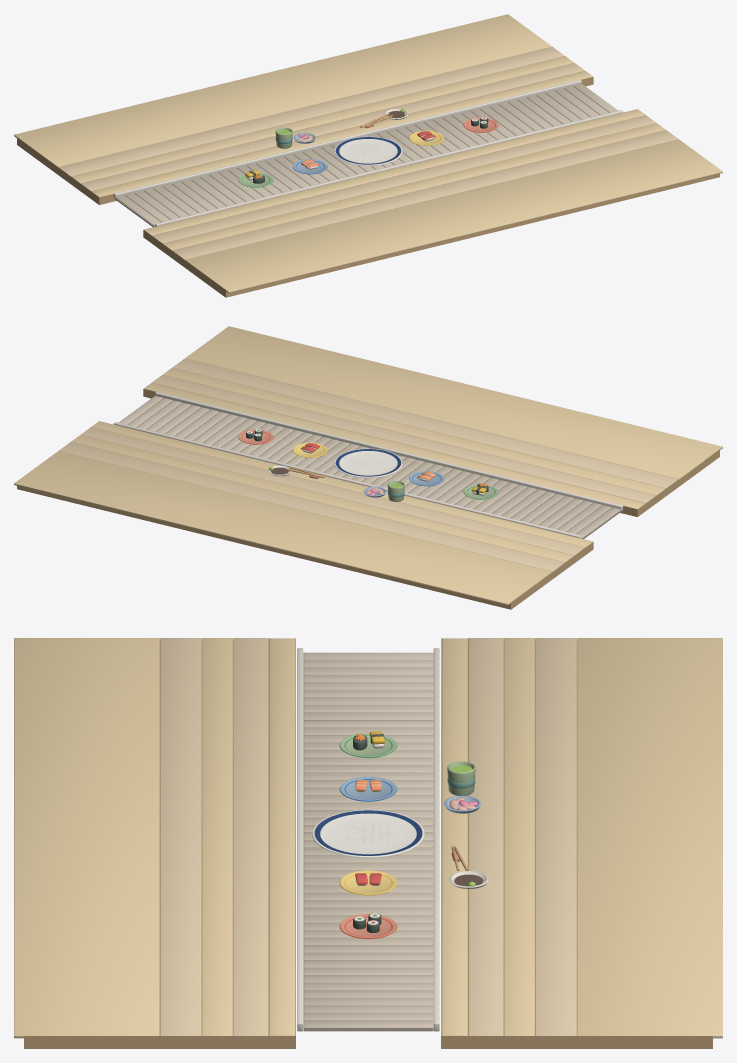
File: sushi_kit.glb
The picture shows the model from 3 angles, top to bottom: view 1: azimuth 30°, elevation 25°; view 2: azimuth 150°, elevation 25°; view 3: azimuth 270°, elevation 25°; orthographic projection. The views are drawn at different scales.
Visible parts, largest first — view 1: COUNTER, BELT, PLATE_Giant; view 2: COUNTER, BELT, PLATE_Giant; view 3: COUNTER, BELT, PLATE_Giant, RIDE_2_Plate, RIDE_1_Plate, PROP_Teacup, RIDE_3_Plate, RIDE_0_Plate.
Part boxes in pixels (box(x1,y1,x2,y2)): COUNTER: box(14, 14, 722, 297); BELT: box(113, 80, 623, 227); PLATE_Giant: box(334, 136, 402, 165); COUNTER: box(14, 326, 722, 609); BELT: box(113, 392, 623, 539); PLATE_Giant: box(334, 448, 402, 477); COUNTER: box(14, 638, 722, 1048); BELT: box(297, 648, 439, 1031); PLATE_Giant: box(312, 809, 424, 858); RIDE_2_Plate: box(339, 870, 397, 895); RIDE_1_Plate: box(339, 776, 397, 801); PROP_Teacup: box(447, 761, 475, 795); RIDE_3_Plate: box(339, 914, 397, 938); RIDE_0_Plate: box(339, 733, 397, 757).
Bounding box in the file's own units: 90 × 4.01 × 67.82.
Materials: 1 (1 with a texture image).
